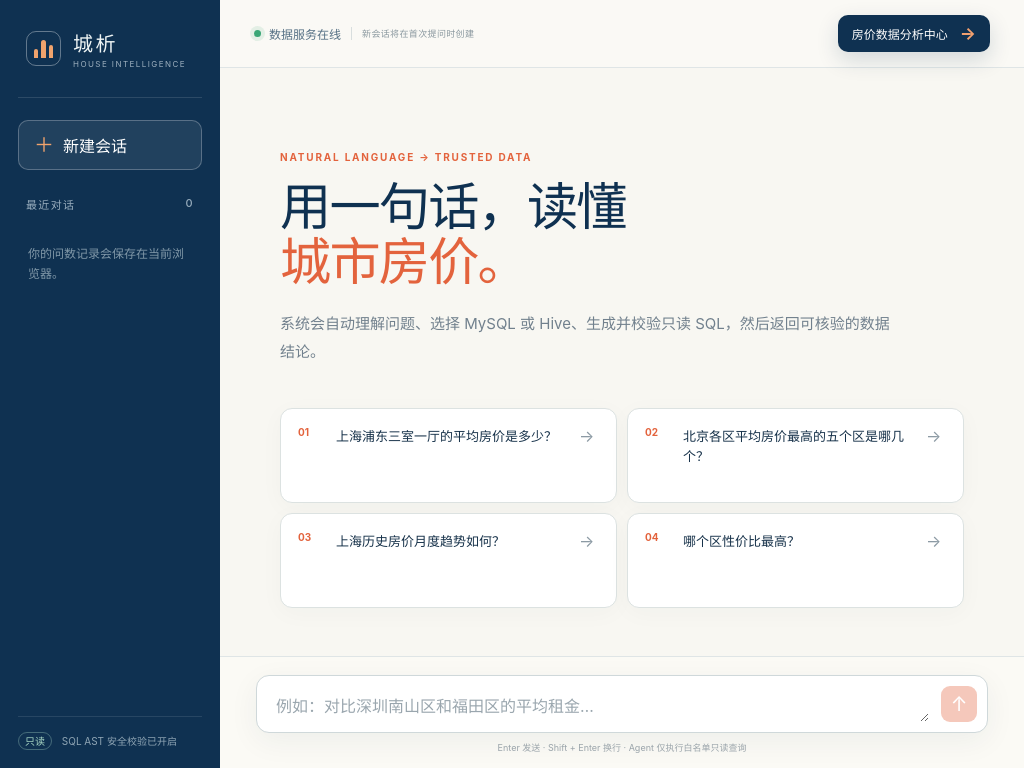
Test: App conversations › creates one conversation and stores the returned thread
Type "第一问" into the text box with placeholder "例如：对比深圳南山区和福田区的平均租金…".
click(602, 707); type("第一问")  # box left=274, top=692, right=929, bottom=722
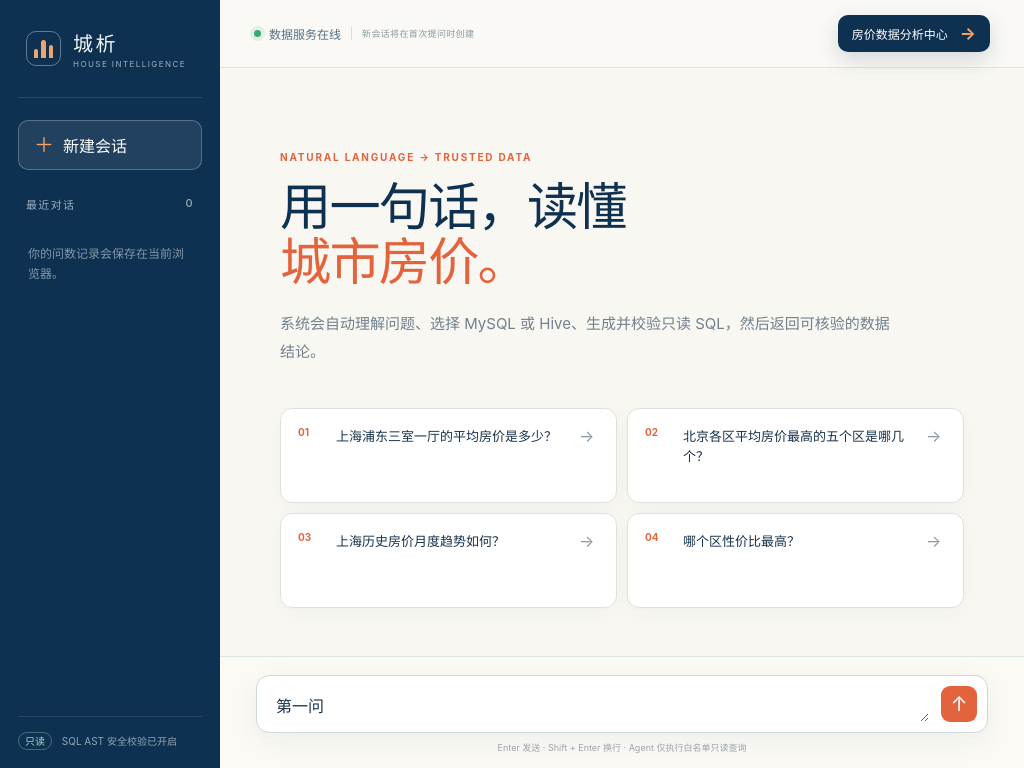
Click the button named "发送问题".
click(959, 704)  # box left=941, top=686, right=977, bottom=722
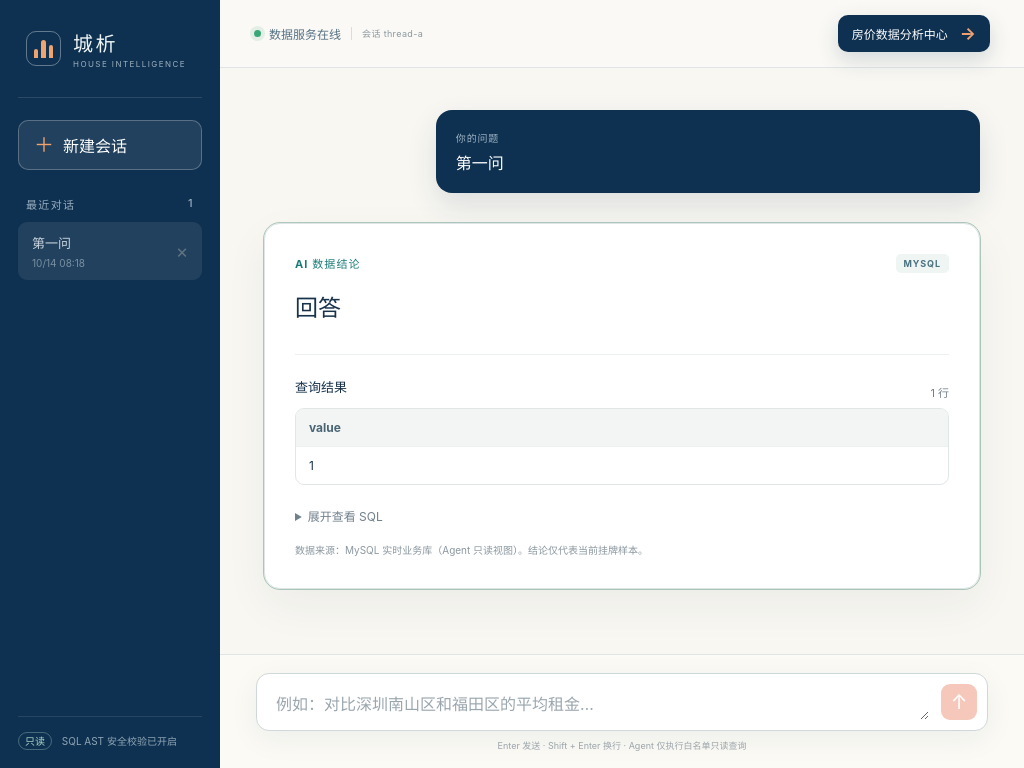
Check: the heading "回答" is shown, box left=295, top=296, right=341, bottom=321
